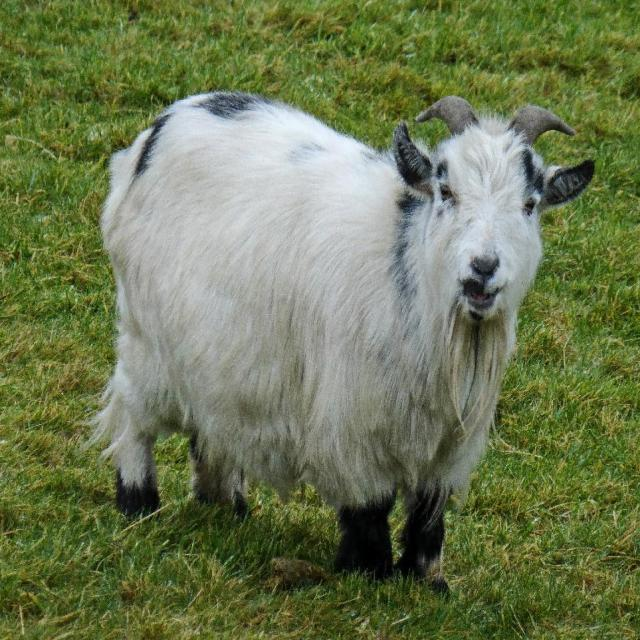Goat: (80, 87, 595, 594)
